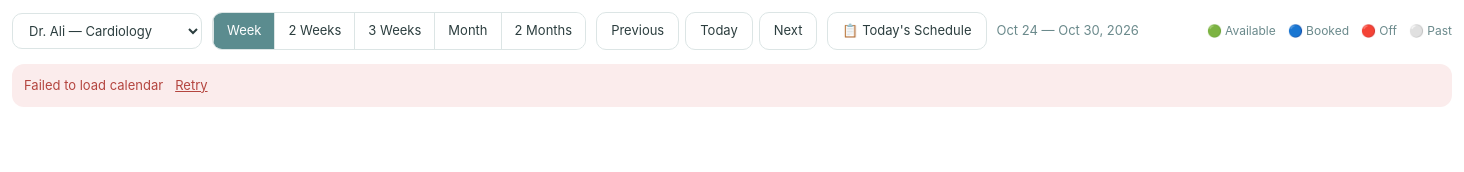
Scenario: DoctorCalendar › shows the calendar error with a working retry button
Expected: the text "Failed to load calendar" is shown, 24,76 -> 163,92
Click the button "Retry".
click(191, 85)  # box 175,76 -> 208,95
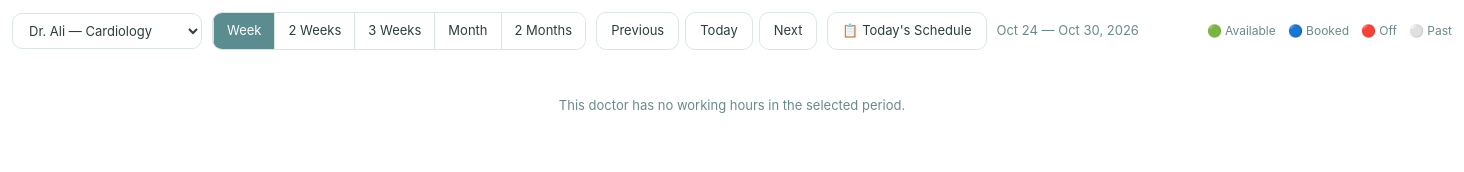
Expected: the text "This doctor has no working hours in the selected period." is shown, 559,96 -> 905,112
